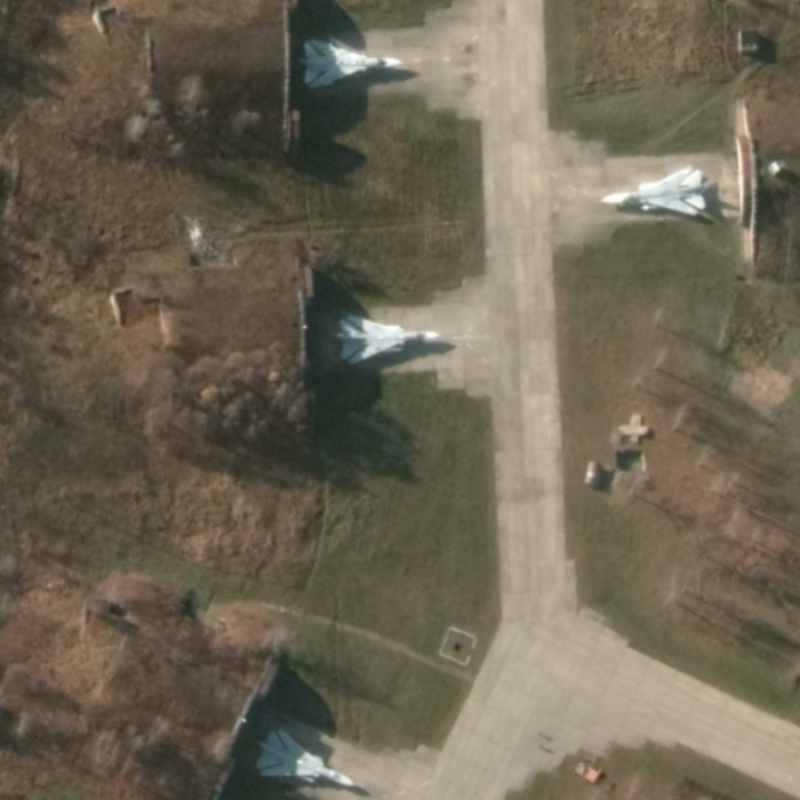A20: (253, 728, 357, 789), (297, 35, 406, 92), (599, 163, 710, 218), (335, 313, 441, 367)
